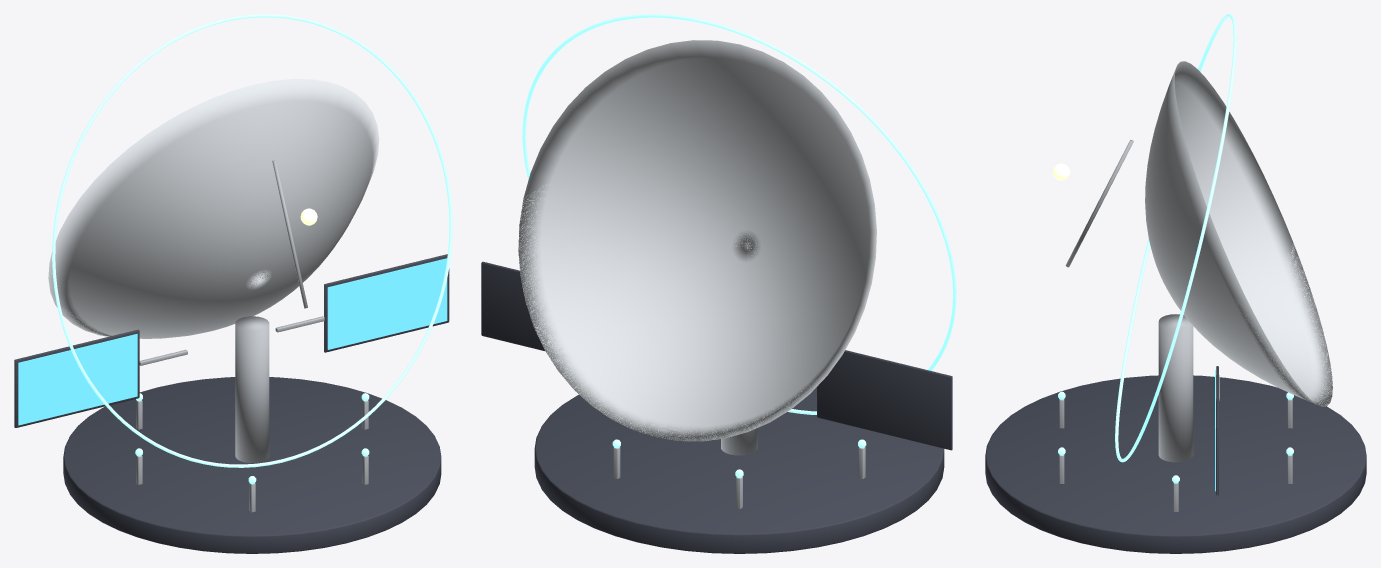
Rendered from about.glb.
3 renders of one model, left to right at view 1: azimuth 30°, elevation 25°; view 2: azimuth 150°, elevation 25°; view 3: azimuth 270°, elevation 25°, orthographic. The views are drawn at different scales.
Parts seen in each view (by area): view 1: about_Hull, about_Graphite, about_Screen, about_Steel, spin_OrbitRing; view 2: about_Hull, about_Graphite, spin_OrbitRing, about_Steel; view 3: about_Graphite, about_Hull, about_Steel, spin_OrbitRing.
Boxes of the visible parts, box(x1,y1,x2,y2) form: about_Hull: box(48, 79, 379, 338); about_Graphite: box(14, 254, 449, 553); about_Screen: box(18, 258, 447, 425); about_Steel: box(136, 160, 368, 512); spin_OrbitRing: box(52, 14, 452, 467); about_Hull: box(518, 40, 876, 441); about_Graphite: box(481, 261, 952, 553); spin_OrbitRing: box(522, 14, 956, 414); about_Steel: box(613, 428, 865, 508); about_Graphite: box(985, 366, 1366, 553); about_Hull: box(1145, 61, 1332, 406); about_Steel: box(1059, 140, 1292, 511); spin_OrbitRing: box(1115, 14, 1236, 462).
Bounding box in the file's own units: 14.6 × 13.92 × 11.
